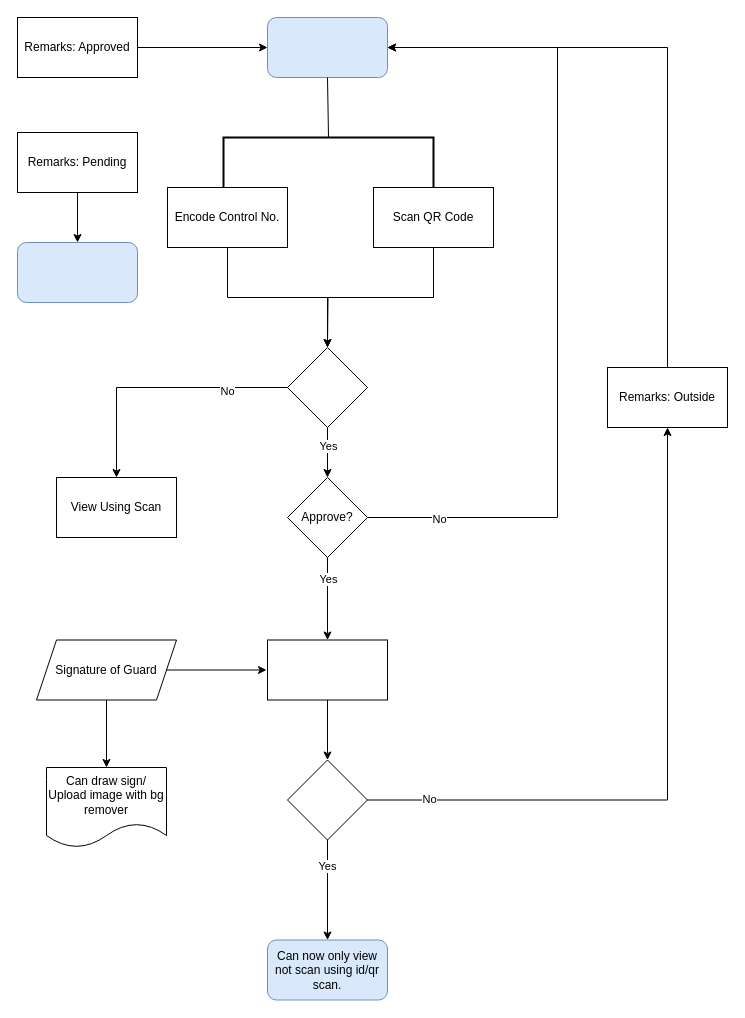
The diagram is 745 pixels wide and 1018 high, and some of its shapes have lost their labels. Here are the shapes that lost their labels. From the top down, the centre of each, then its label:
(327,47): Let Guard Check
(77,272): Wait for Superiors to approve
(327,387): Is Open?
(327,669): Actual In/Out
(327,799): Is Closed?
